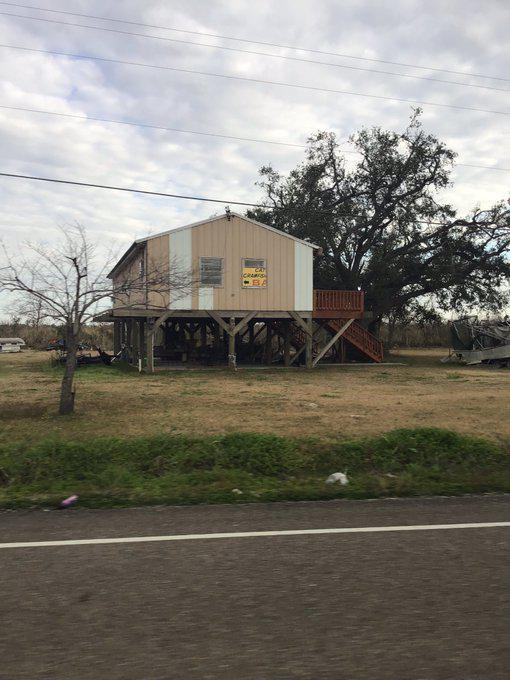affected: (106, 207, 390, 373)
